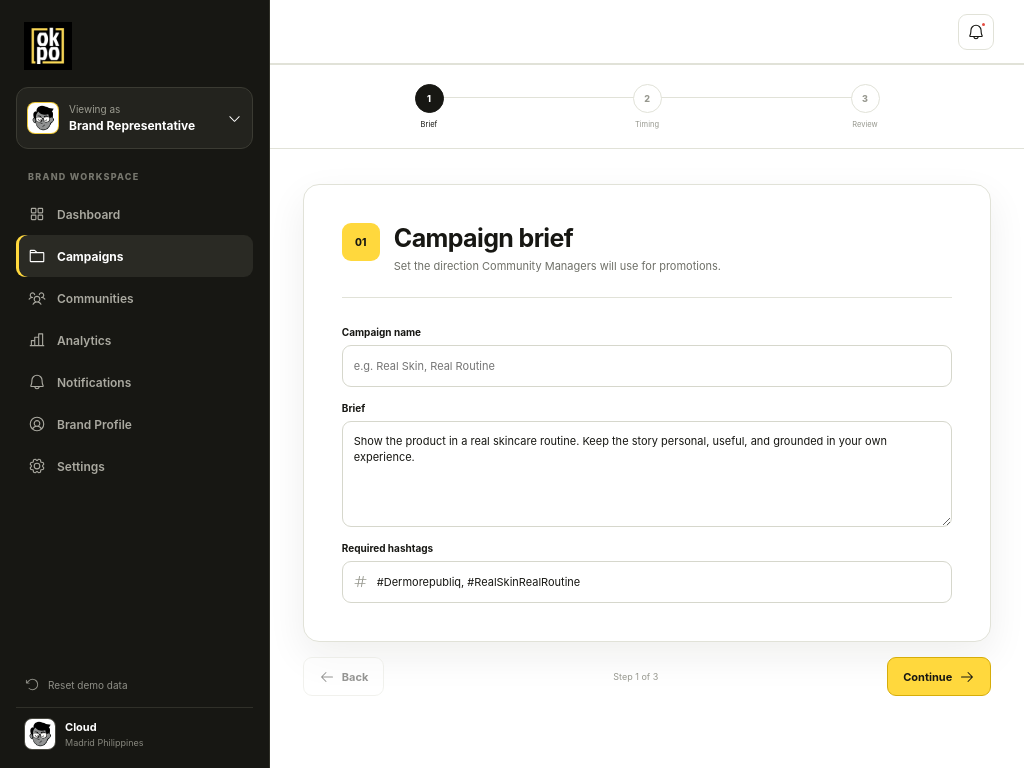
Test: OkPo role workspaces › updates campaign duration when a calendar month is selected
The width and height of the screenshot is (1024, 768).
Click the button "2 Timing" at (647, 106), box [538, 83, 756, 130]
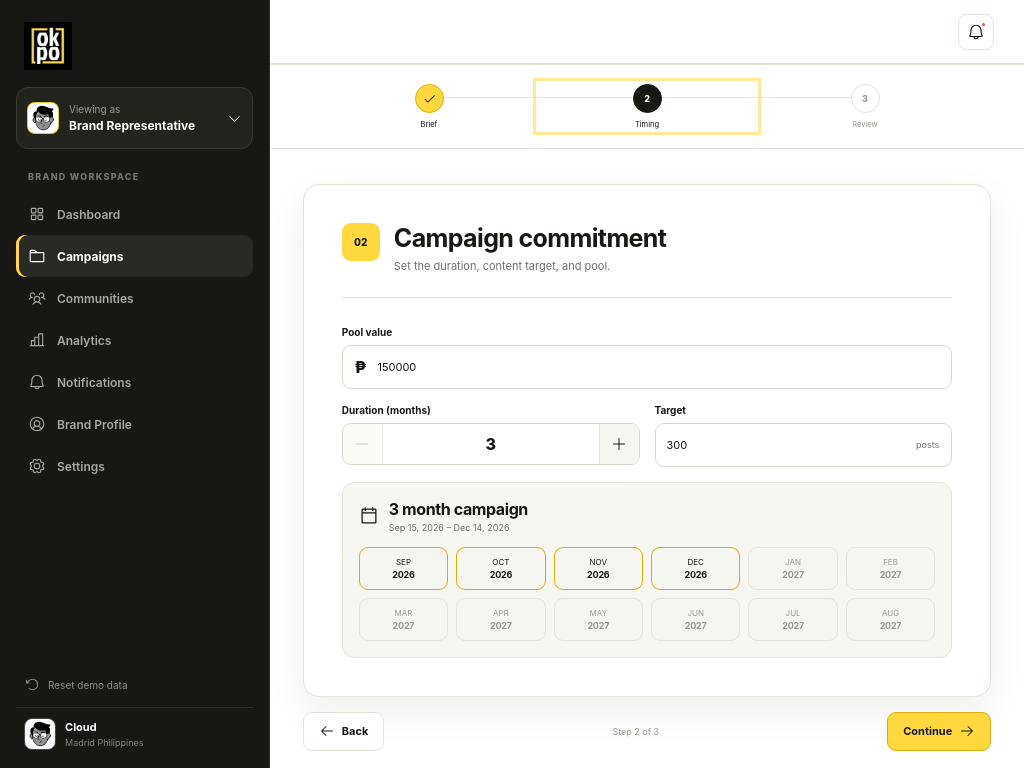
Click the button with aria-label "Set campaign duration to 4 months, ending in January 2027" at (793, 568), box [748, 547, 838, 590]
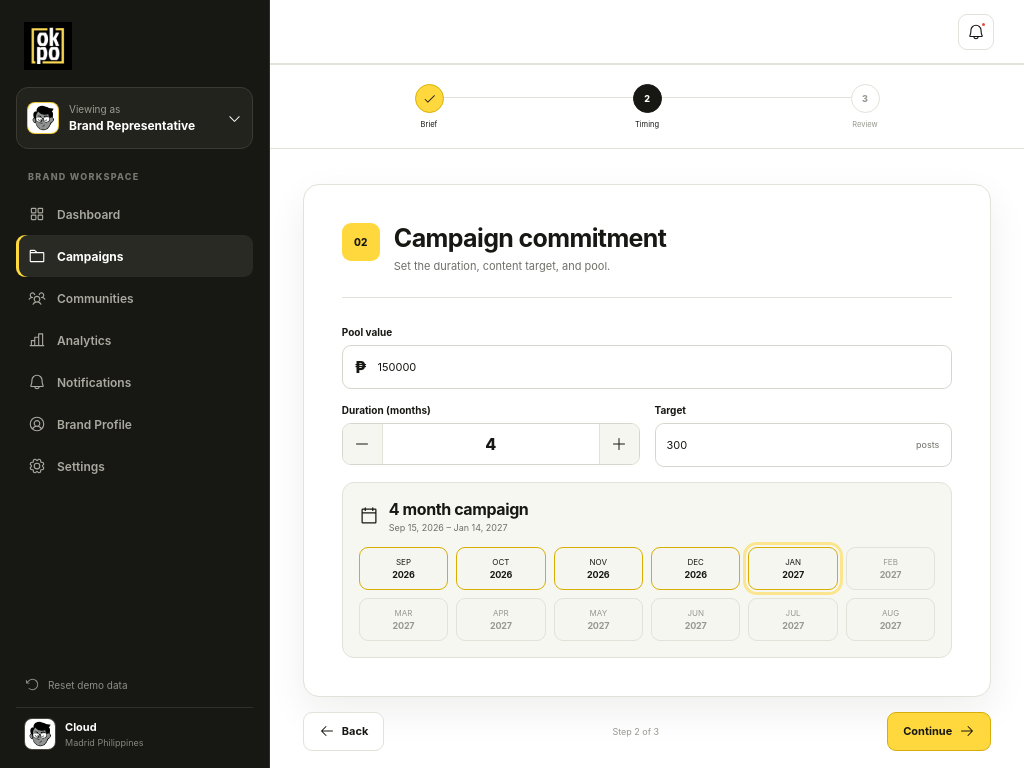
Expected: the number field named "Duration (months)" holds "4", [383, 424, 598, 464]
Expected: the element named "4 month campaign calendar" is shown, [342, 482, 952, 658]
